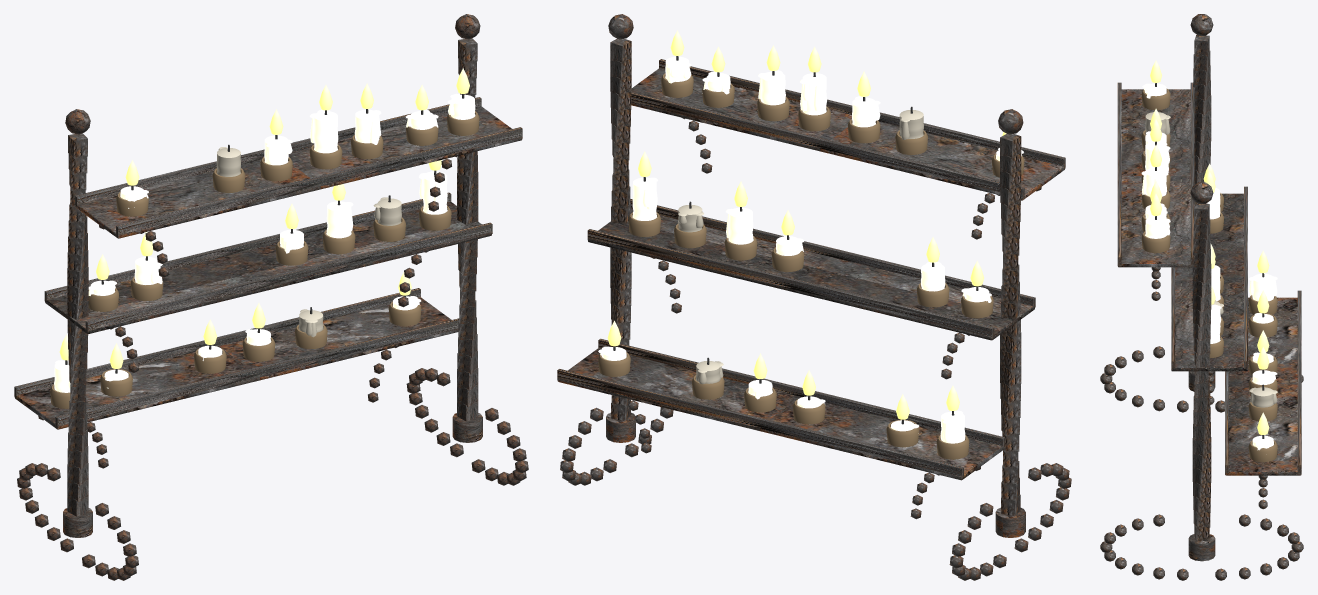
Rendered from votive-rack-v02.glb.
The picture shows the model from 3 angles, left to right: view 1: azimuth 30°, elevation 25°; view 2: azimuth 150°, elevation 25°; view 3: azimuth 270°, elevation 25°; orthographic projection. The views are drawn at different scales.
Parts seen in each view (by area): view 1: votive-rack; view 2: votive-rack; view 3: votive-rack.
Boxes of the visible parts, <box> form: votive-rack: <box>14,14,528,580</box>; votive-rack: <box>557,14,1071,580</box>; votive-rack: <box>1100,14,1303,580</box>.
Bounding box in the file's own units: 1.11 × 1.15 × 0.5306.
6 materials, 1 textured.
